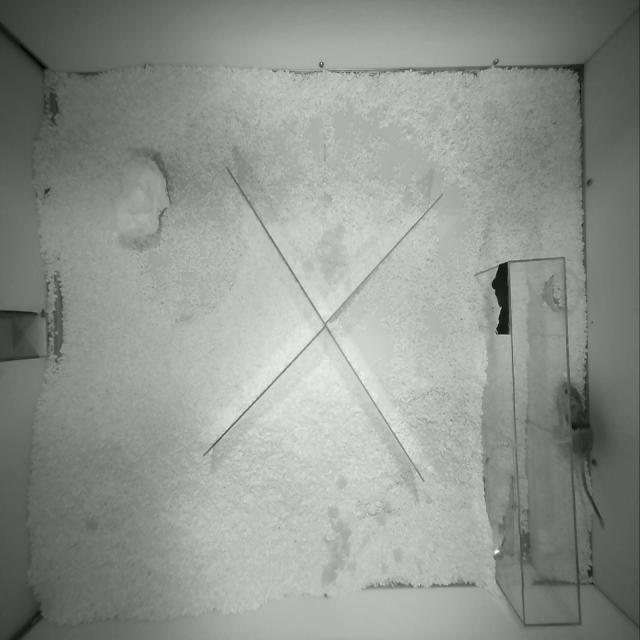adult_front: (557, 381, 603, 527)
